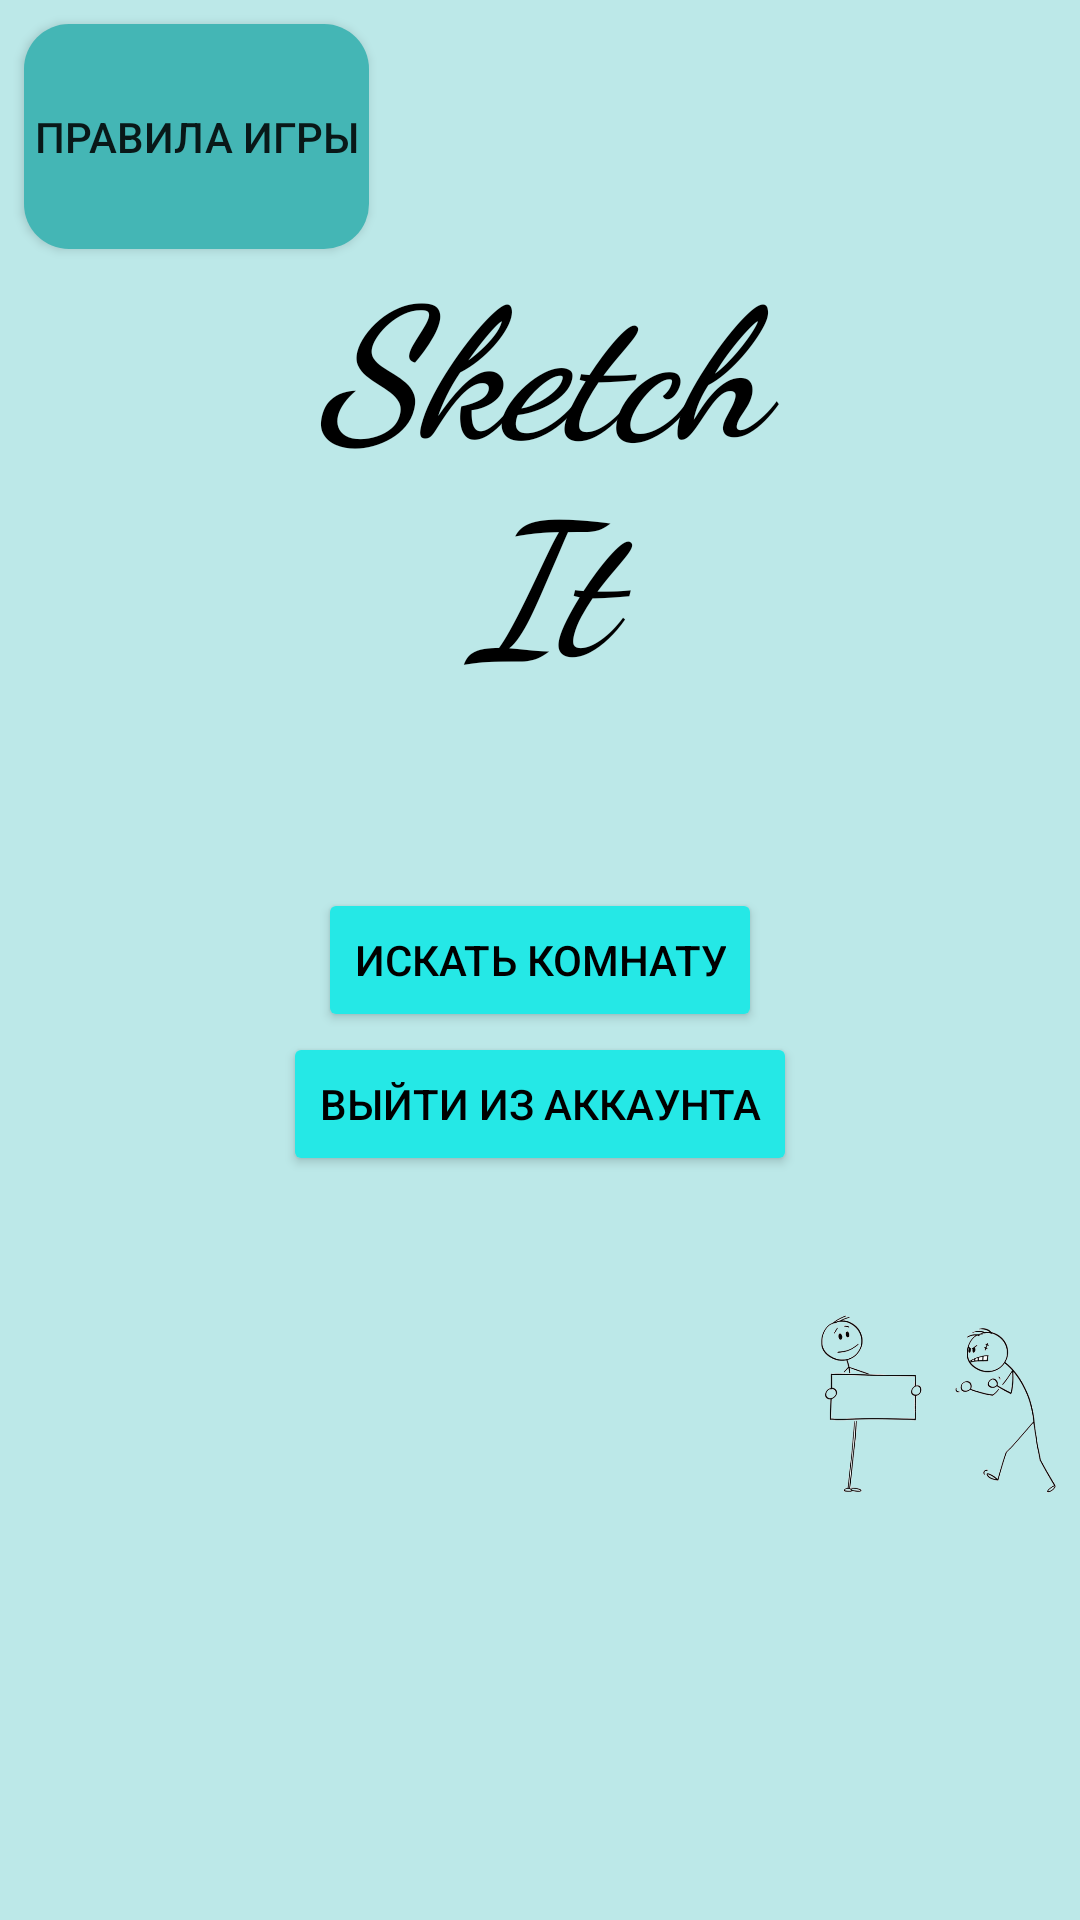

Named icons in this screenshot (1080*1920) and their centers, (x,y):
stickman argue: (938,1404)
